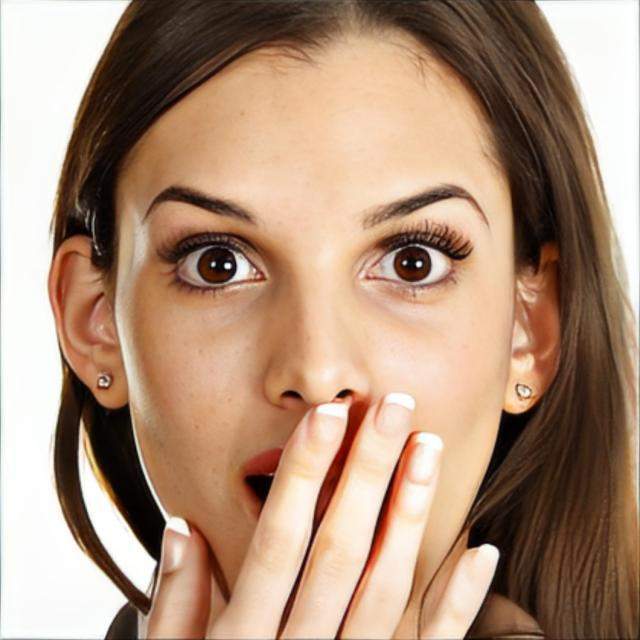surprise: (112, 45, 517, 622)
